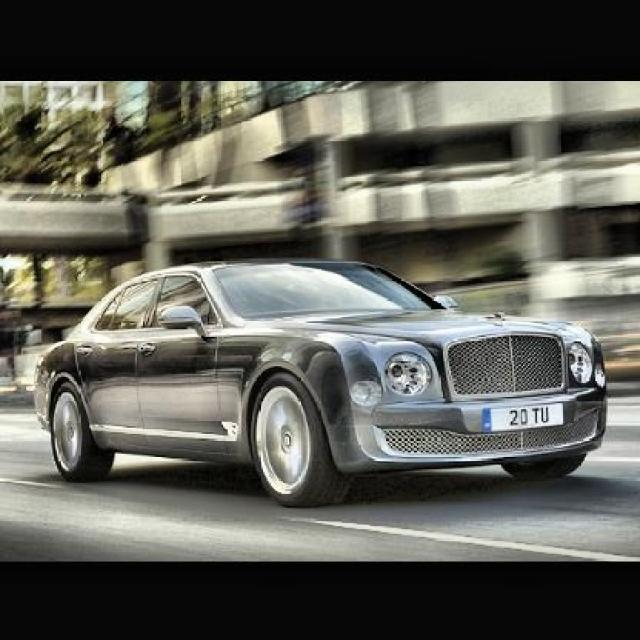black: (15, 239, 640, 464)
